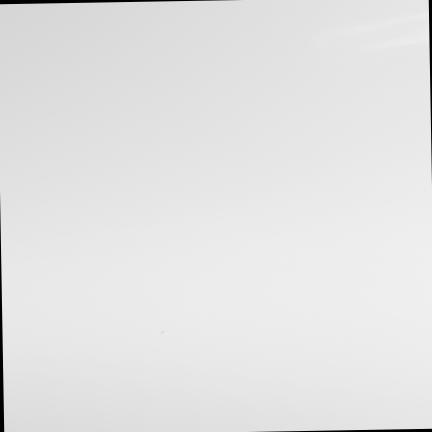Shahed: (159, 329, 165, 334)
